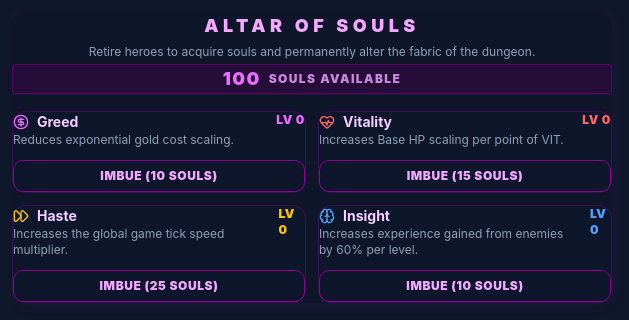
Test: PrestigeUpgradesPanel › buys an upgrade when the button is clicked
Click the button "Imbue (10 Souls)" below "Reduces exponential gold cost scaling.". click: (159, 176)
box: [13,160,305,192]
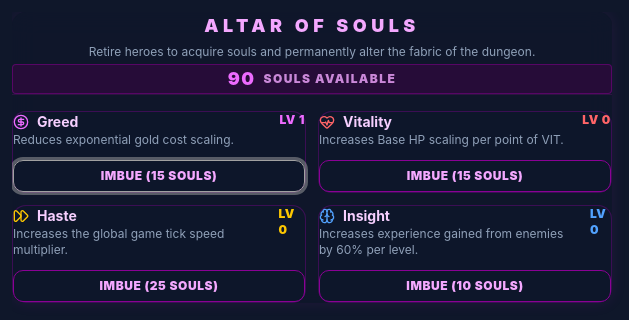
Check: the text "Lv 1" is shown, box [280,112,305,128]
Check: the text "90" is shown, box [228,65,256,93]
